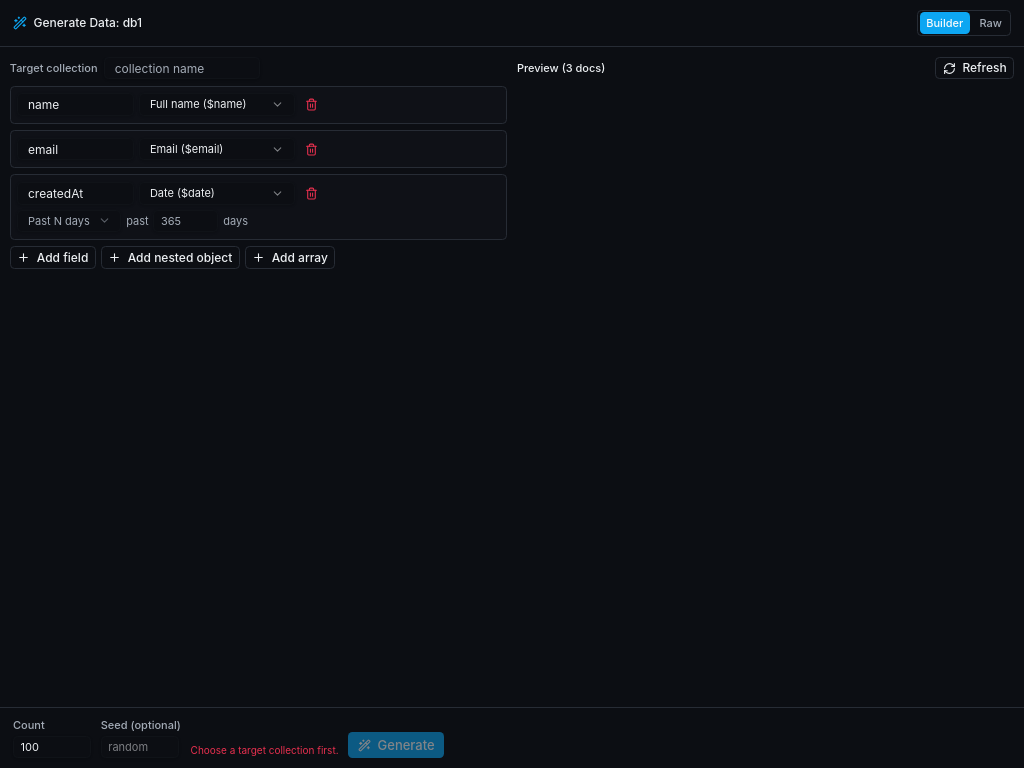
GenerateView › count validation › disables Generate when a database-scoped tab has no target collection
Expected: the button with test id "generate-run-btn" is disabled, x1=348 y1=732 x2=444 y2=758
Type "newColl" into the field with test id "generate-target-collection-input".
click(182, 68); type("newColl")  # box x1=104 y1=57 x2=260 y2=80
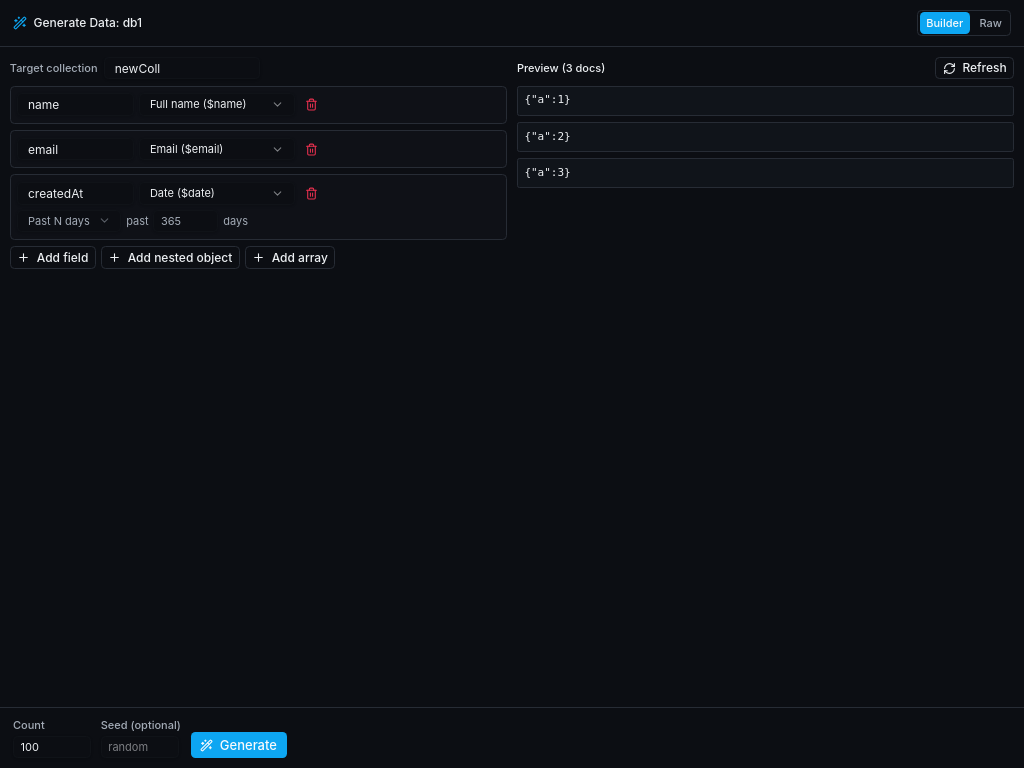
Result: the button with test id "generate-run-btn" is enabled at x1=191 y1=732 x2=287 y2=758
